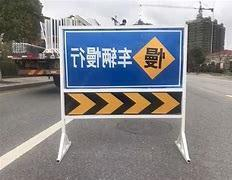sign: (60, 26, 184, 118)
